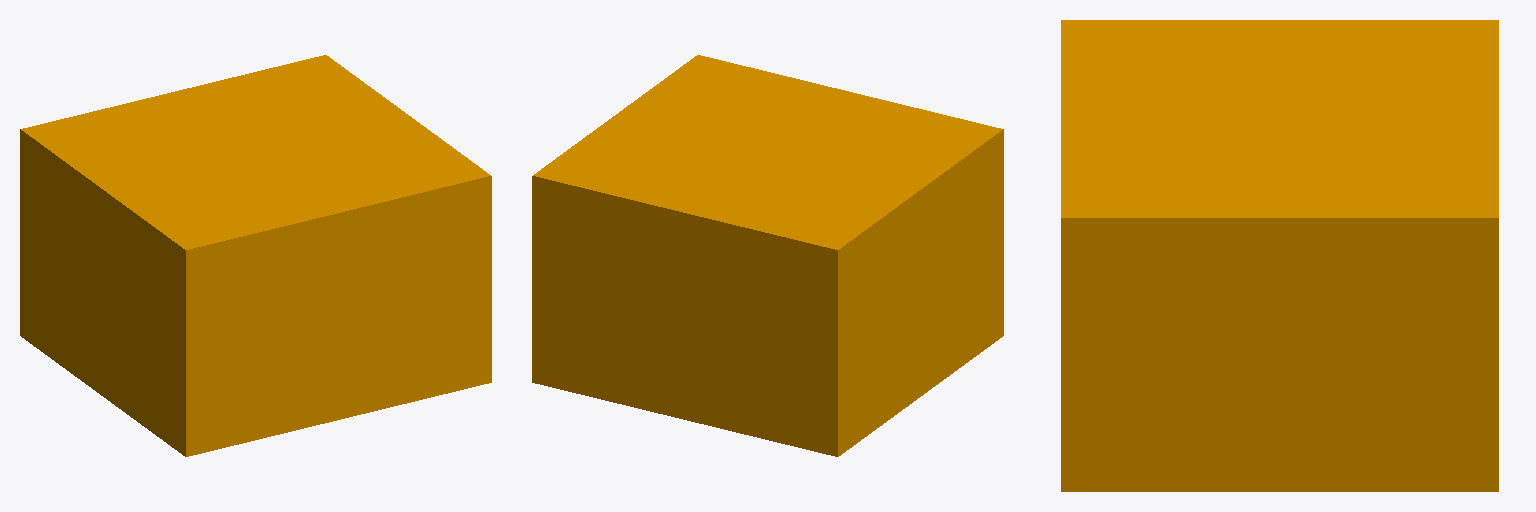
URDF robot description (object):
<?xml version="1.0"?>
<!-- Auto-generated by tools/gen_primitive_objects.py. kind=box dims=(0.080789, 0.075747, 0.052292) -->
<robot name="object">
  <link name="object">
    <visual>
      <origin xyz="0 0 0"/>
      <geometry>
        <box size="0.080789 0.075747 0.052292"/>
      </geometry>
    </visual>
    <collision>
      <origin xyz="0 0 0"/>
      <geometry>
        <box size="0.080789 0.075747 0.052292"/>
      </geometry>
    </collision>
    <inertial>
      <mass value="0.064000"/>
      <inertia ixx="0.00004518" ixy="0.0" ixz="0.0" iyy="0.00004939" iyz="0.0" izz="0.00006541"/>
    </inertial>
  </link>
</robot>

--- What the picture shows (computed from the rendered views, not written in the file) ---
Views: 3 orthographic renders of the robot side by side, from view 1: azimuth 30°, elevation 25°; view 2: azimuth 150°, elevation 25°; view 3: azimuth 270°, elevation 25°.
Robot: object — 1 links, 0 joints (none); root link object; default pose: every joint at zero.
Links seen in each view (by area): view 1: object; view 2: object; view 3: object.
Link boxes in pixels (bbox=[...]): object: bbox=[20, 55, 491, 456]; object: bbox=[532, 55, 1003, 456]; object: bbox=[1061, 20, 1498, 491].
Size in the robot's own frame: 0.0808 by 0.0757 by 0.0523 metres.
Geometry: primitives only (box / cylinder / sphere), no mesh files.
